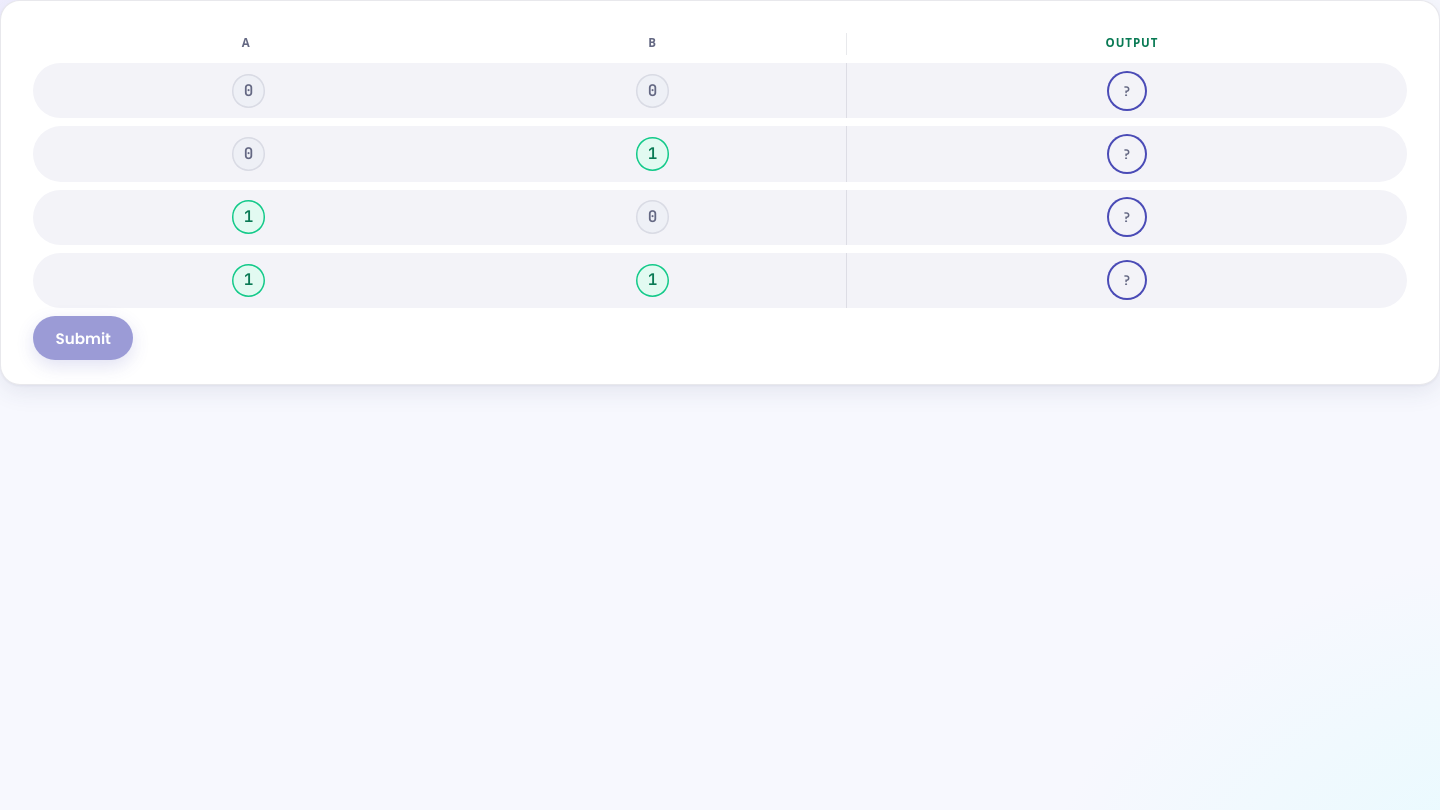
it: TruthTable submit handler (Chunk 2) › output cells are disabled after submit (locks state)
Click the 1st button "?".
click(1127, 91)  # box [1105,69,1149,113]
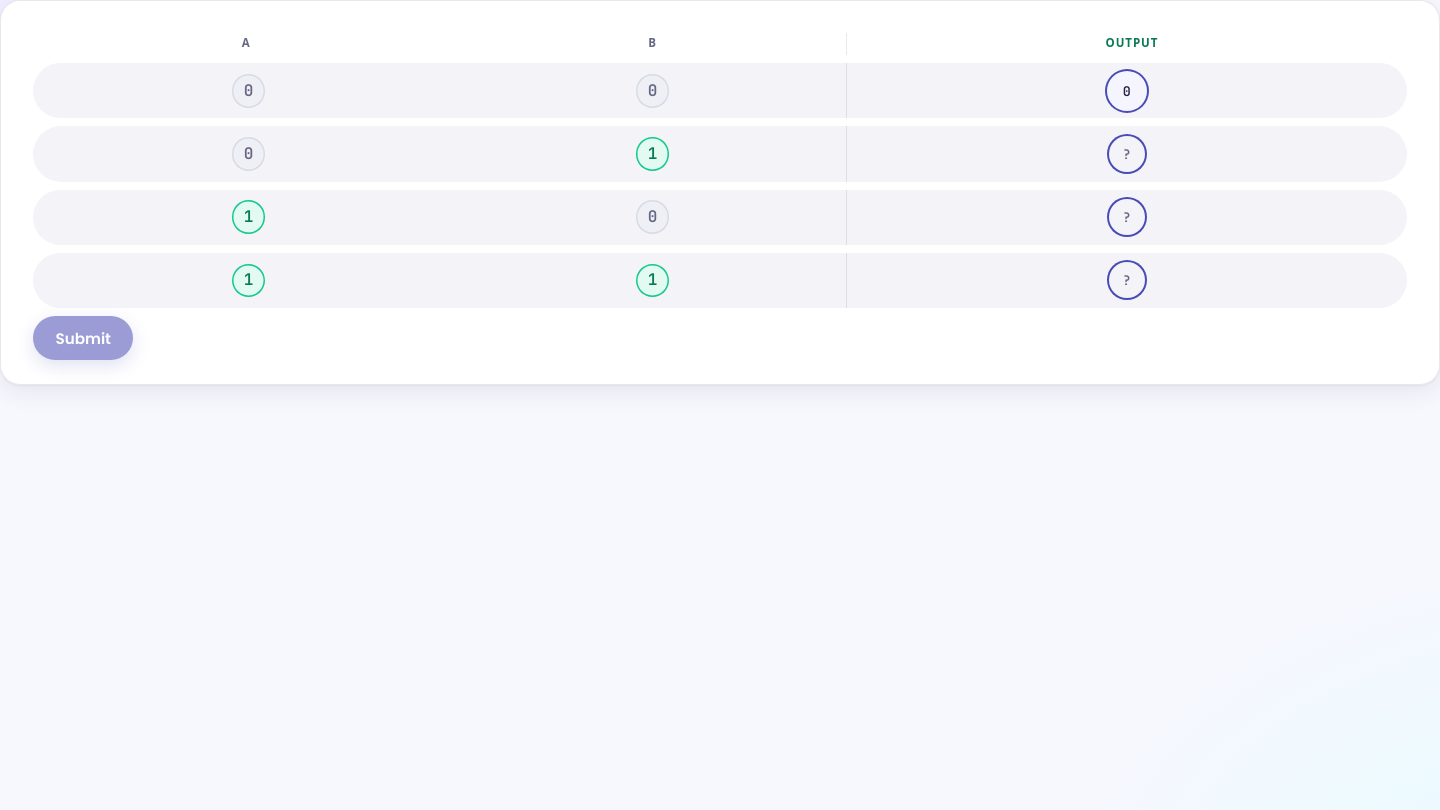
Click the 1st button "?".
click(1127, 154)  # box [1105,132,1149,176]
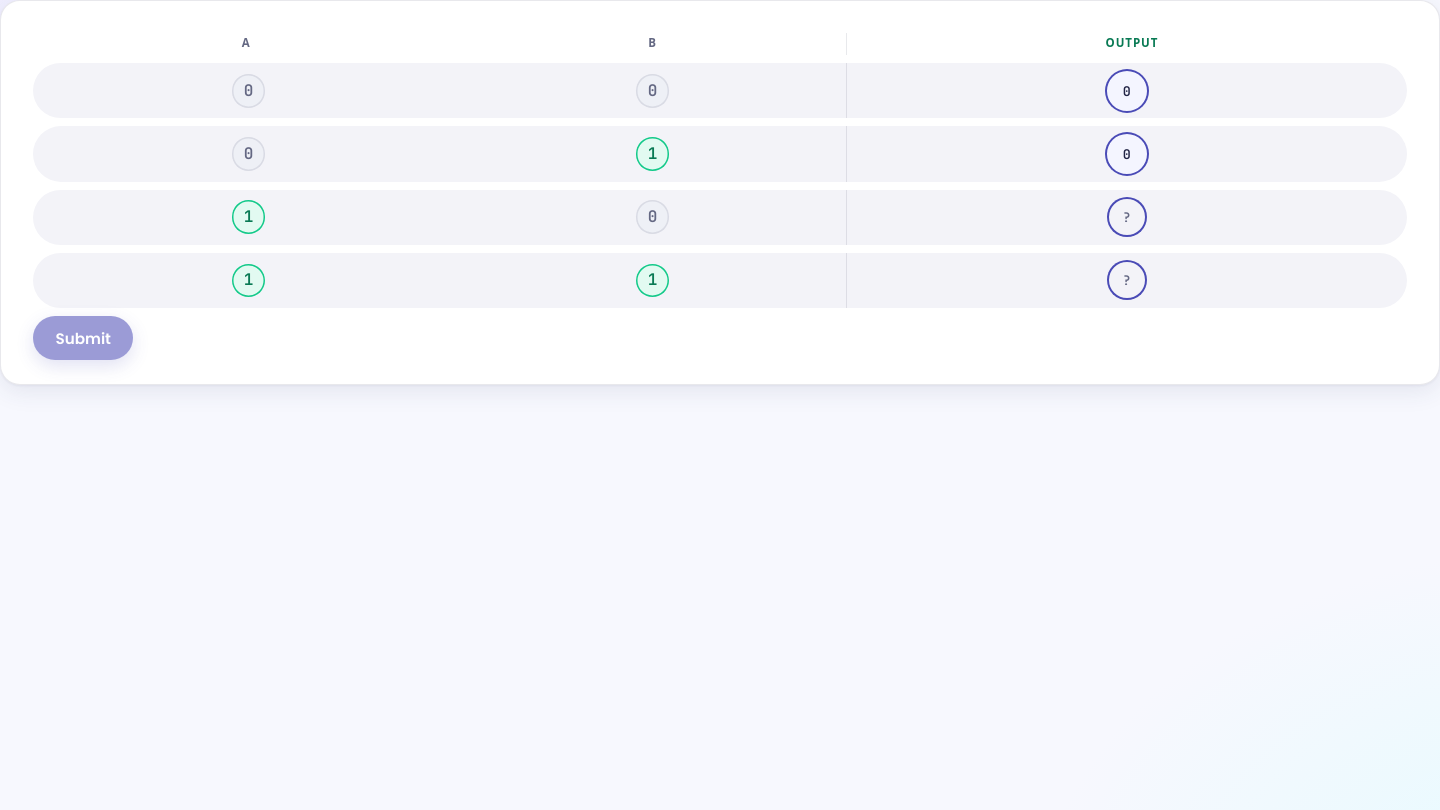
Click the 1st button "?".
click(1127, 217)  # box [1105,195,1149,239]
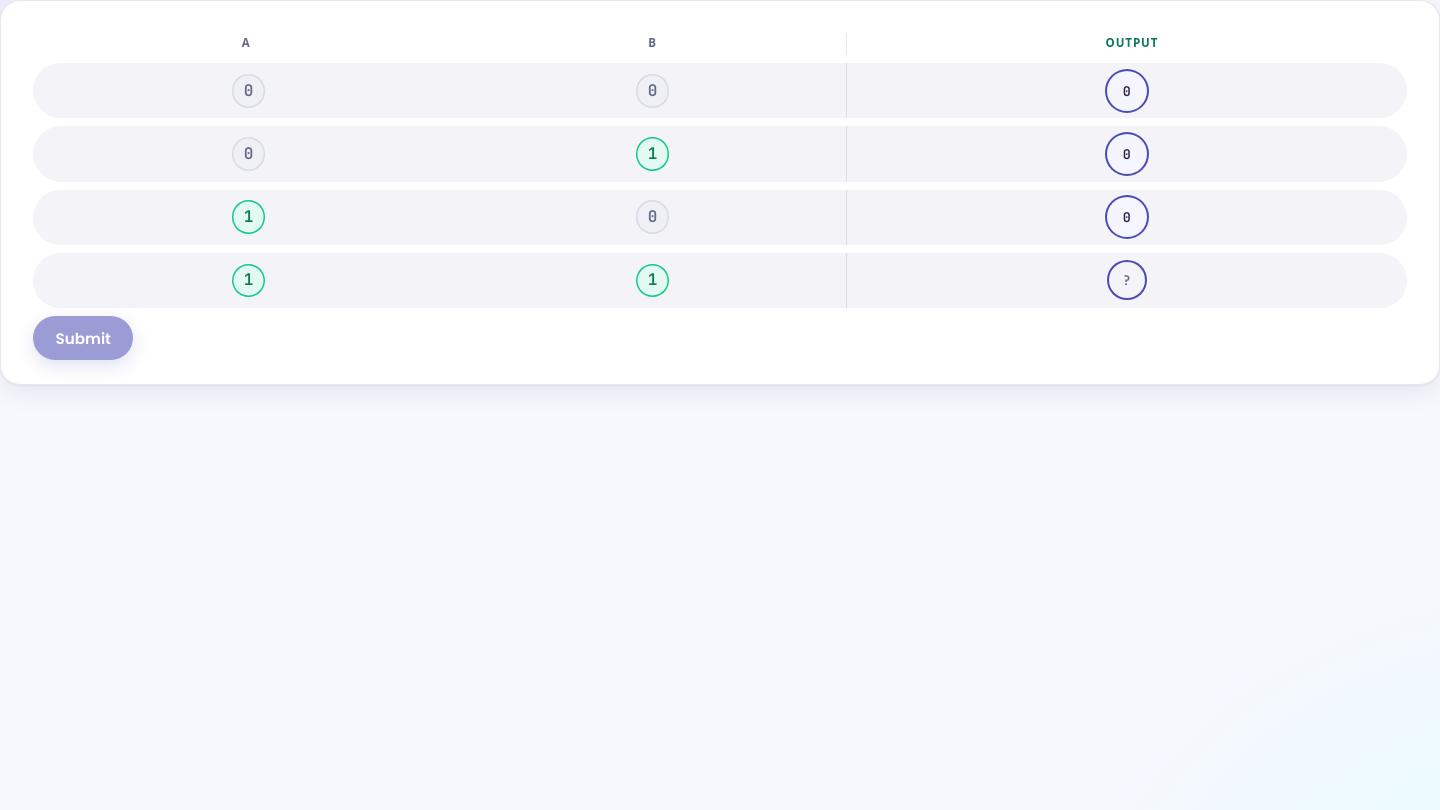
Click the button "?".
click(1127, 280)  # box [1105,258,1149,302]
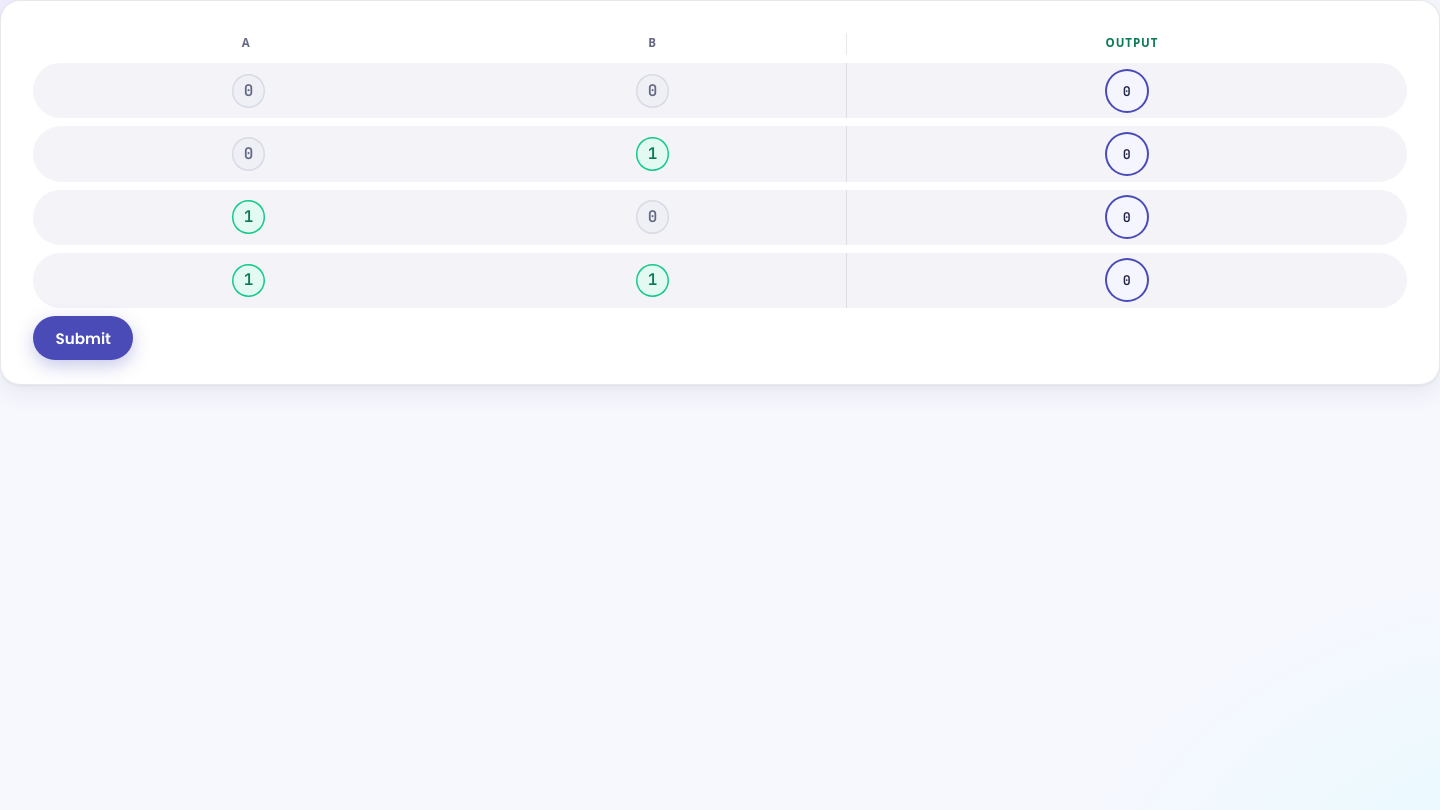
Click the button "Submit".
click(83, 338)  # box [33,316,133,360]
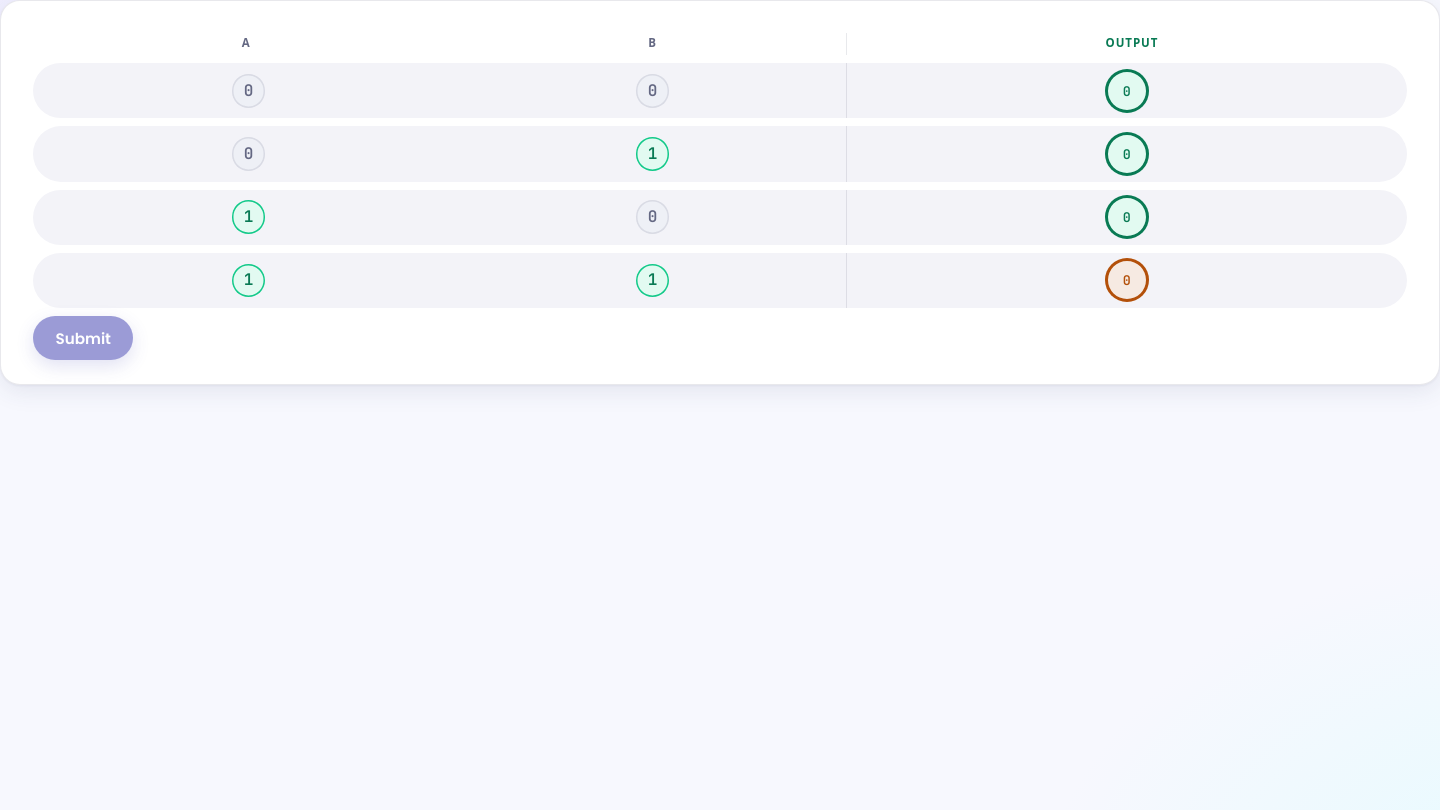
Result: the 1st button "0" is disabled at [1105,69,1149,113]
Result: the 2nd button "0" is disabled at [1105,132,1149,176]
Result: the 3rd button "0" is disabled at [1105,195,1149,239]
